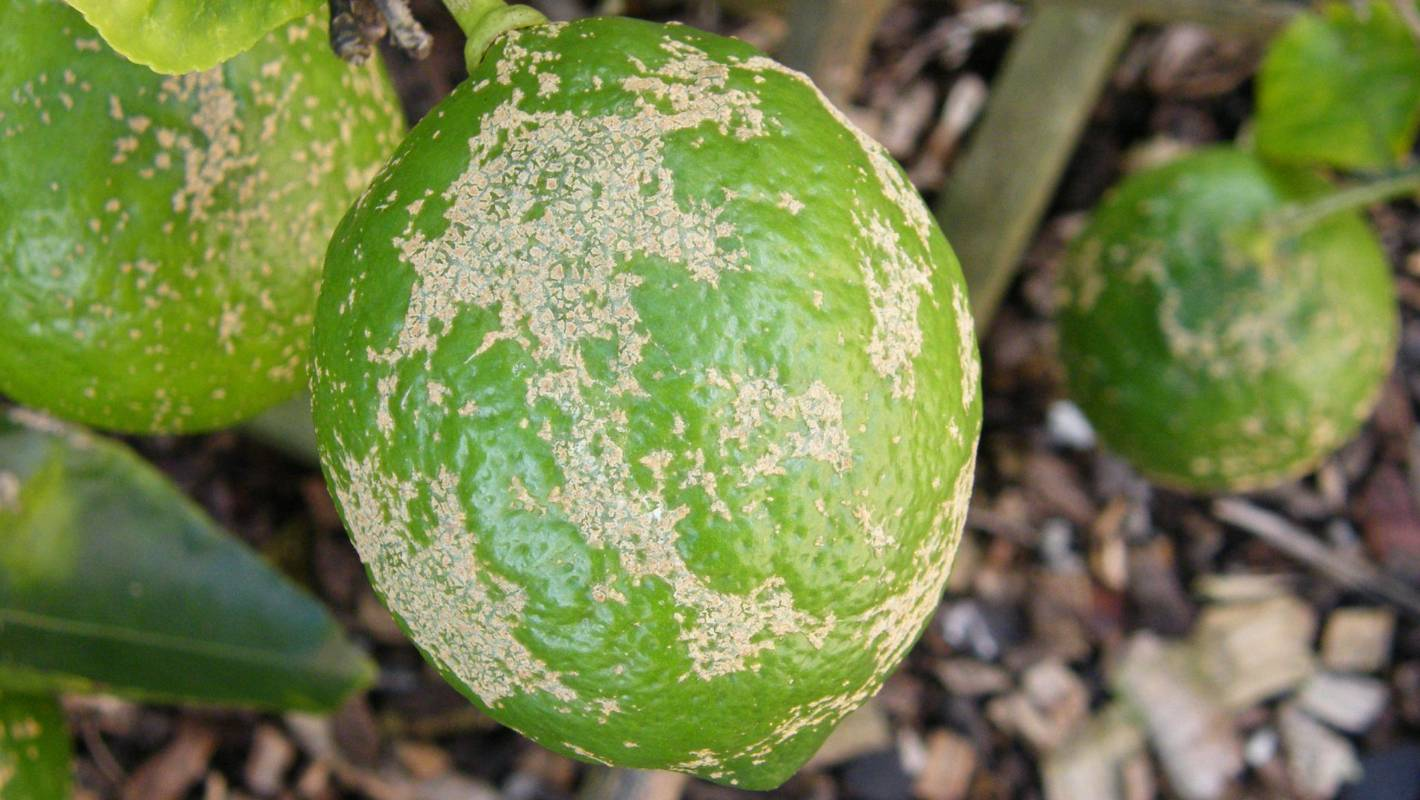damaged_lime: (320, 27, 951, 778), (1, 7, 338, 417)
